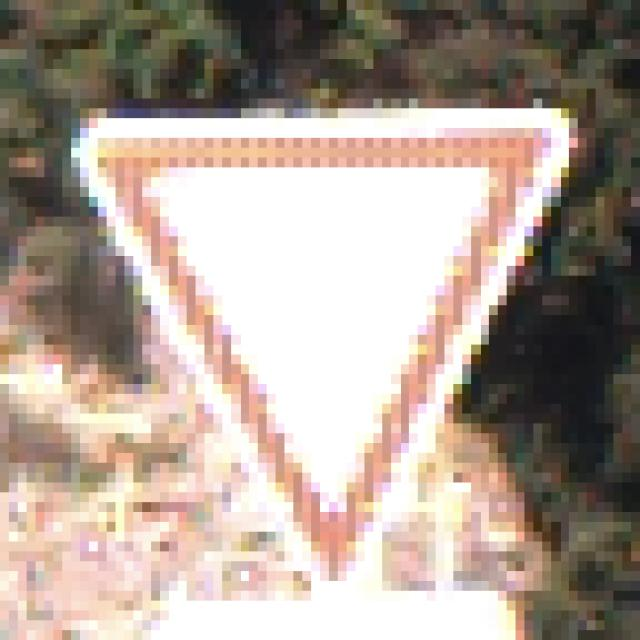Give Way: (54, 60, 588, 592)
